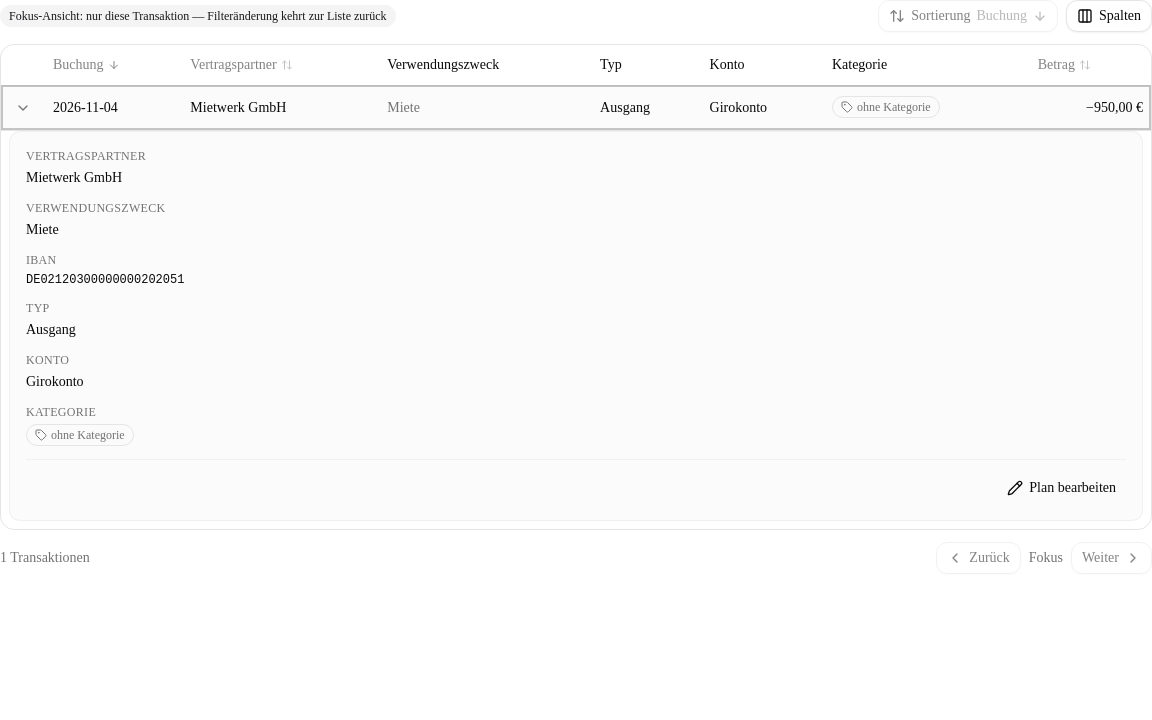
Test: TransactionsTable plan-affordance entry › a matched row opens the matching plan's edit dialog instead
Click the button "Plan bearbeiten": (1062, 488) [997,472,1126,504]
(page scrolled)
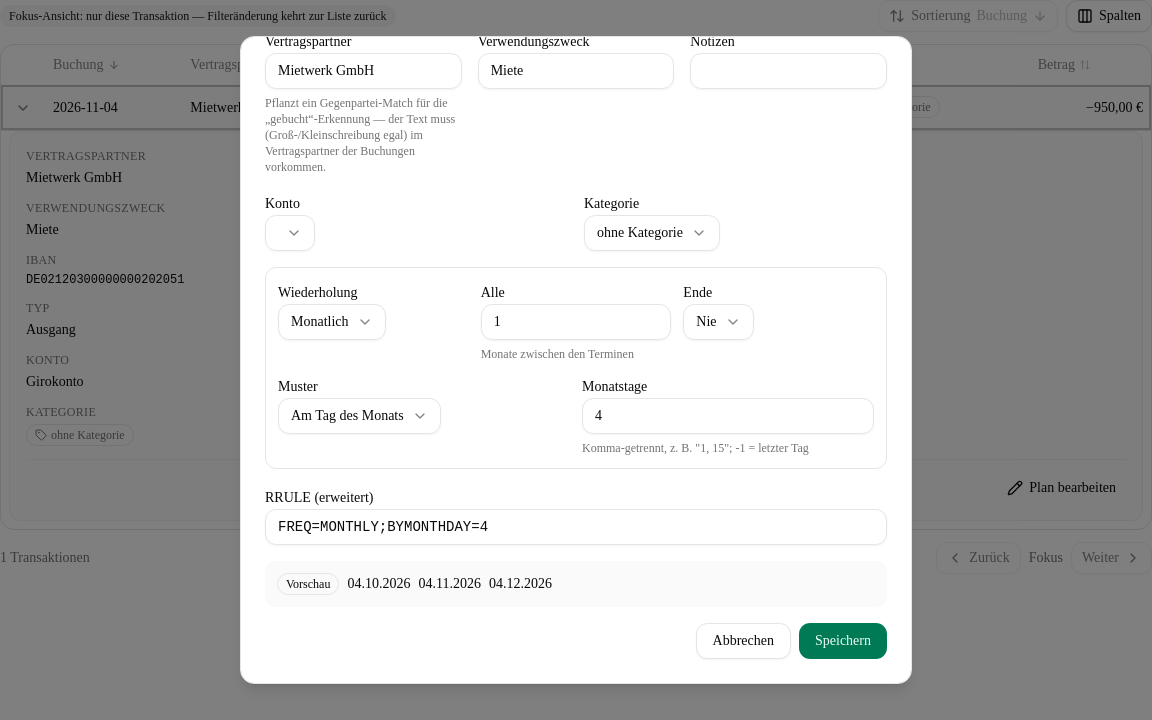
Now the button "Speichern" is shown, box [799,623,887,659]
